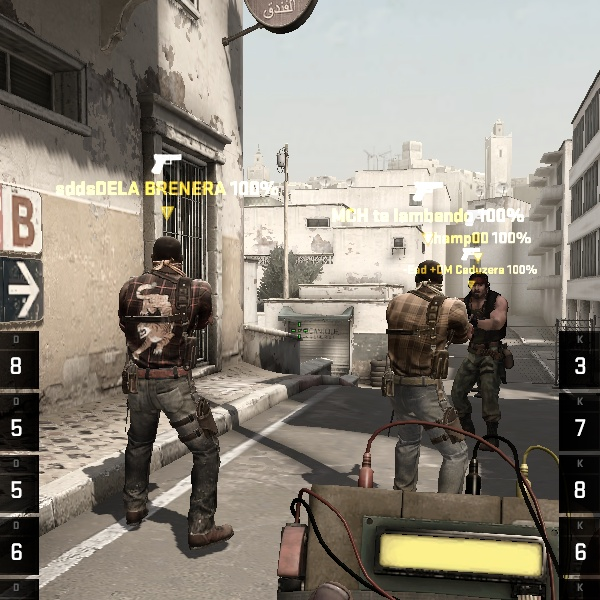t_body: (95, 224, 247, 549), (426, 262, 525, 483)
t_head: (137, 229, 196, 290), (459, 267, 496, 305)
